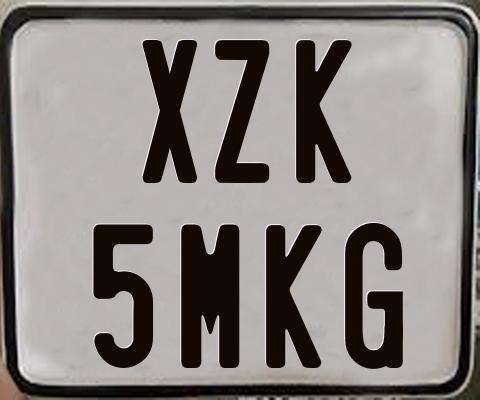5: (90, 222, 150, 368)
G: (343, 220, 403, 367)
K: (293, 40, 354, 188), (265, 223, 325, 372)
M: (181, 224, 242, 374)
X: (142, 40, 199, 188)
Z: (213, 37, 273, 181)
